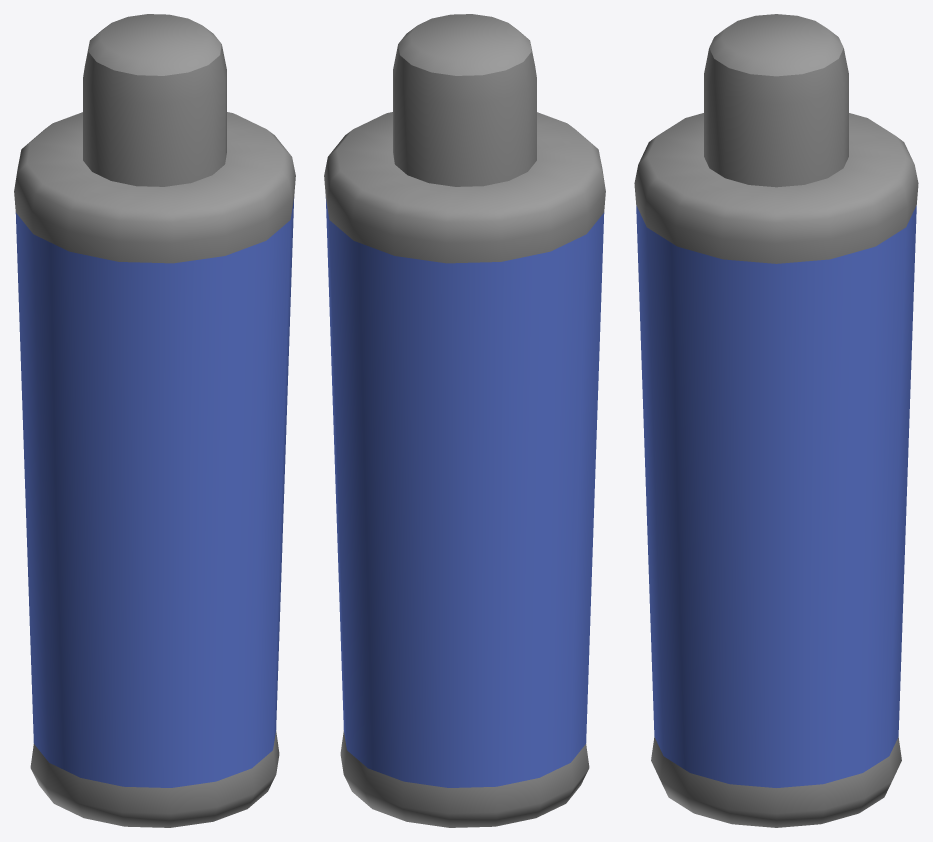
File: Thermos.fbx
3 views of the same model, side by side, from view 1: azimuth 30°, elevation 25°; view 2: azimuth 150°, elevation 25°; view 3: azimuth 270°, elevation 25° (orthographic).
Parts seen in each view (by area): view 1: Thermos; view 2: Thermos; view 3: Thermos.
Part boxes in pixels (x1,y1,x2,y2): Thermos: [14, 14, 295, 827]; Thermos: [324, 14, 605, 827]; Thermos: [634, 14, 918, 827].
Bounding box in the file's own units: 11.5 × 33.13 × 11.5.
